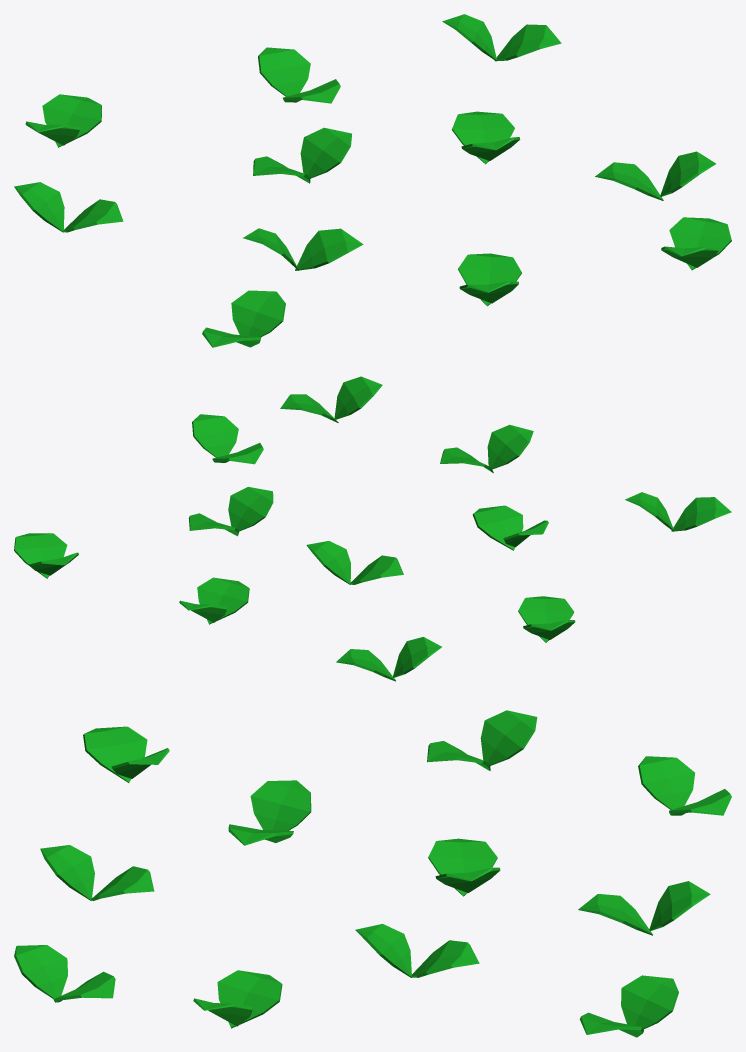
File: Cabbage1.fbx
The picture shows the model from 3 angles, top to bottom: view 1: azimuth 30°, elevation 25°; view 2: azimuth 150°, elevation 25°; view 3: azimuth 270°, elevation 25°; orthographic projection. The views are drawn at different scales.
Visible parts, largest first — view 1: 1; view 2: 1; view 3: 1.
Part boxes in pixels (bbox=[...]): 1: bbox=[14, 14, 731, 347]; 1: bbox=[14, 376, 731, 681]; 1: bbox=[14, 710, 731, 1037].
Size of the model in its own units: 82.74 by 5.45 by 81.39.
